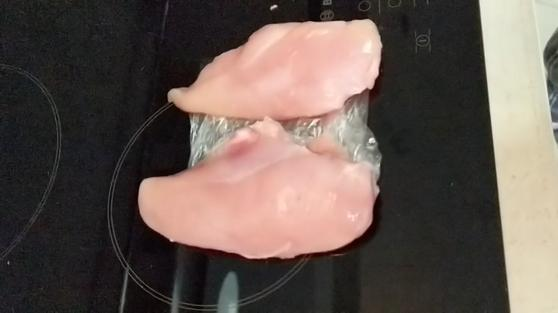chicken_fillet: (170, 15, 386, 119)
white_bread: (132, 117, 381, 260)
